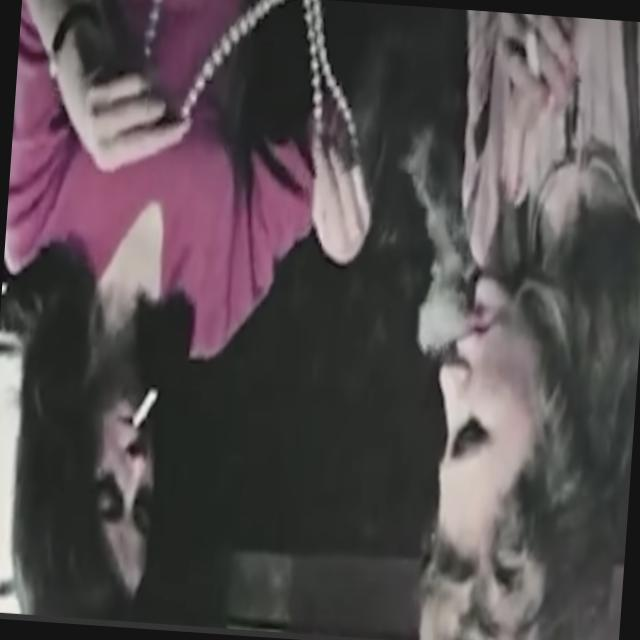cigarette: (118, 368, 170, 436), (508, 23, 548, 90)
